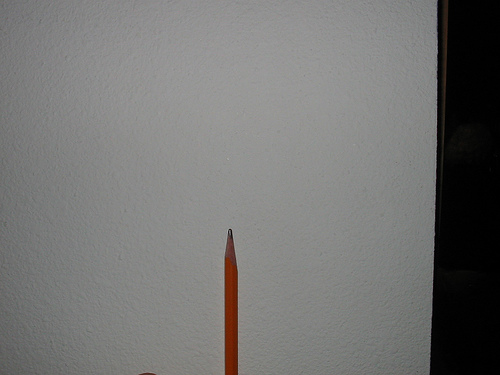pen_tip: (220, 225, 245, 268)
